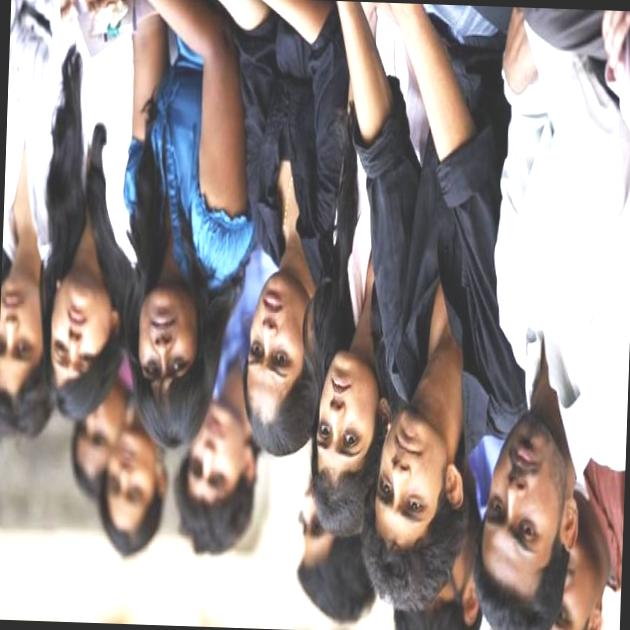there is a person: (234, 0, 375, 457), (475, 272, 630, 620), (129, 148, 246, 427), (38, 158, 134, 401)
there is a person sitting: (360, 2, 521, 571)
